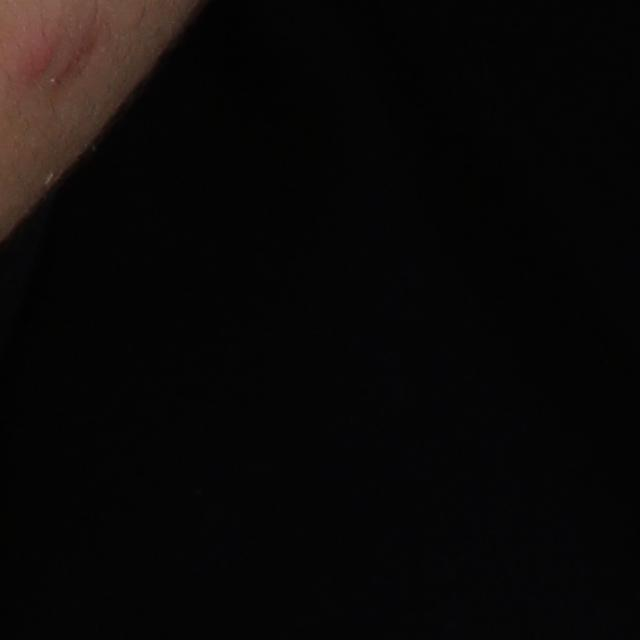papule: (20, 38, 53, 75)
